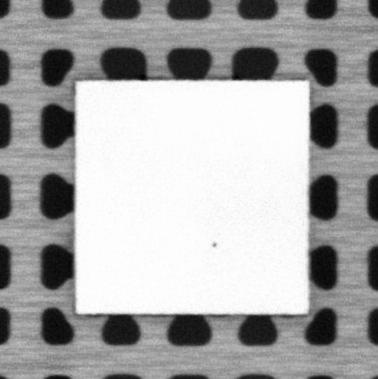DIE_INK: (208, 238, 219, 250)
